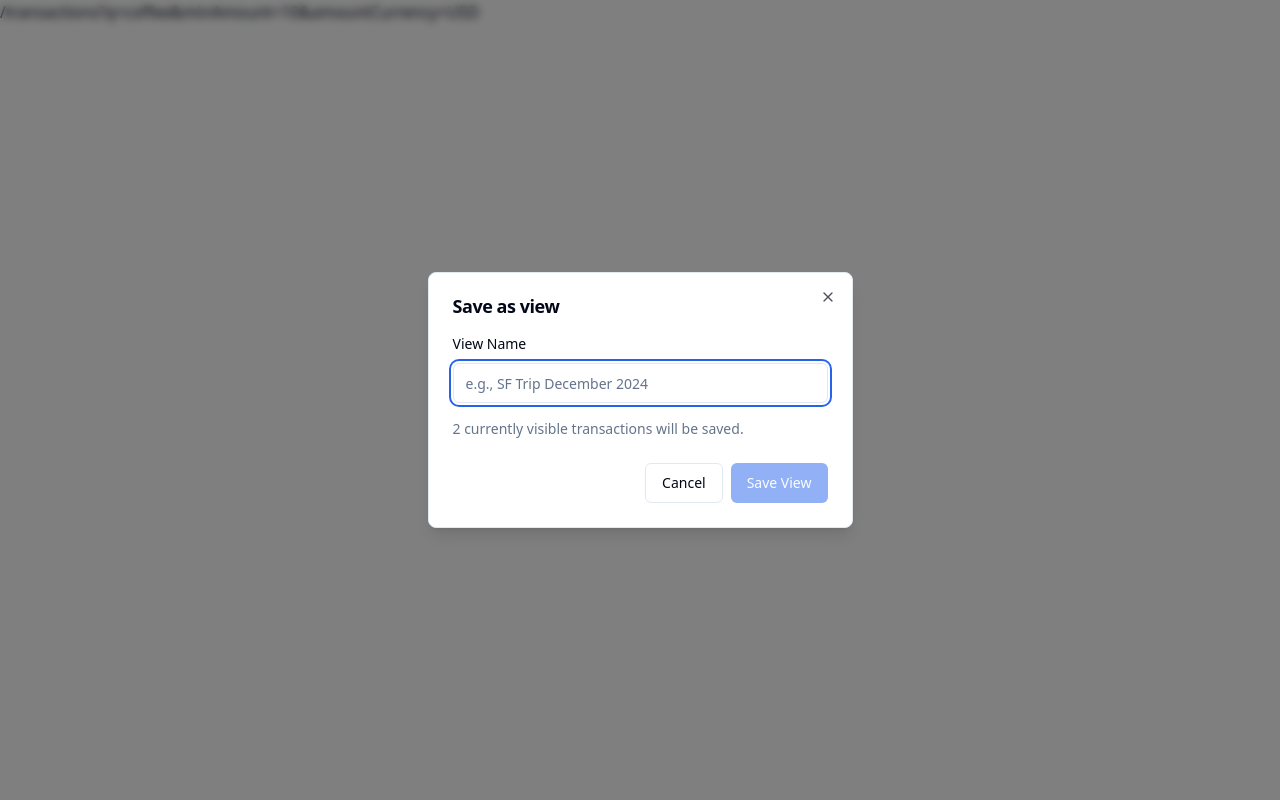
Test: CreateViewModal › explains stale membership while retaining the name
Type "Coffee collection" into the field labelled "View Name" at (640,383), box 452,363 -> 828,403
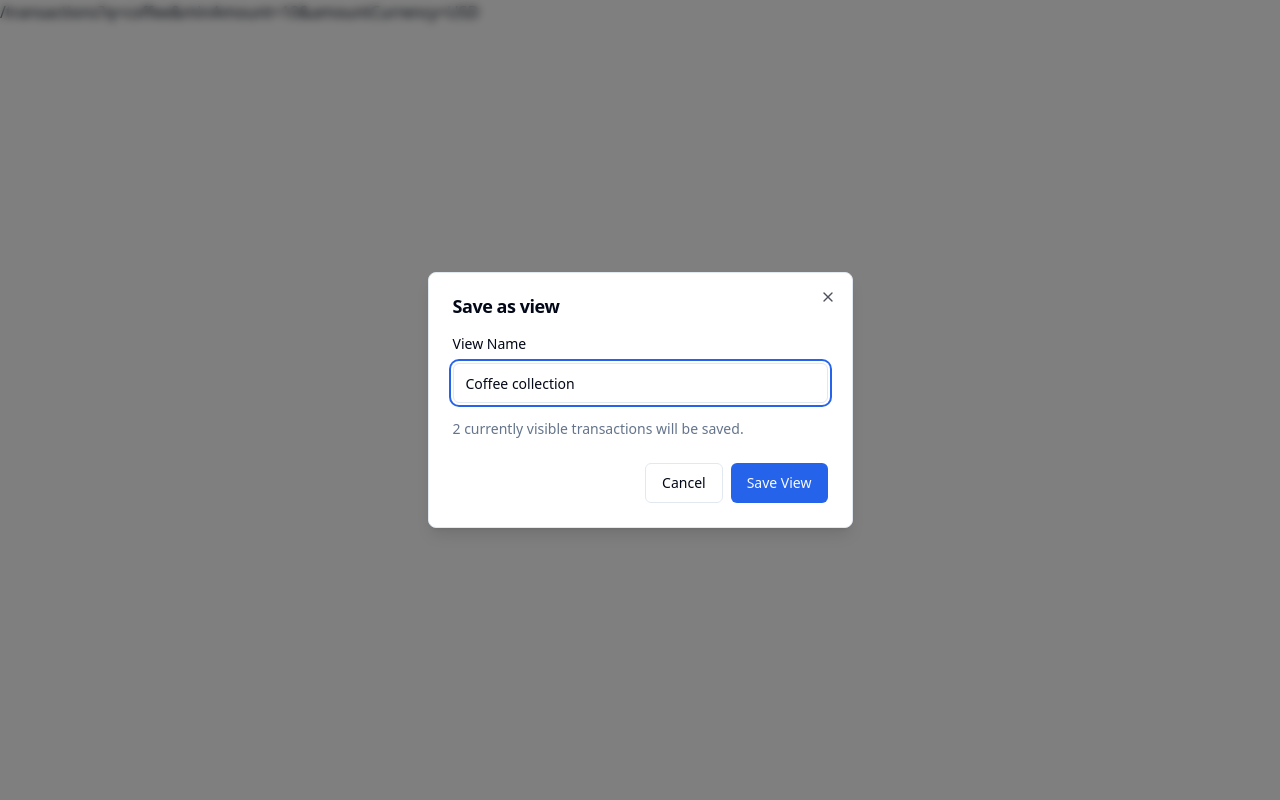
Click the button "Save View" at (779,483), box 731,463 -> 828,503
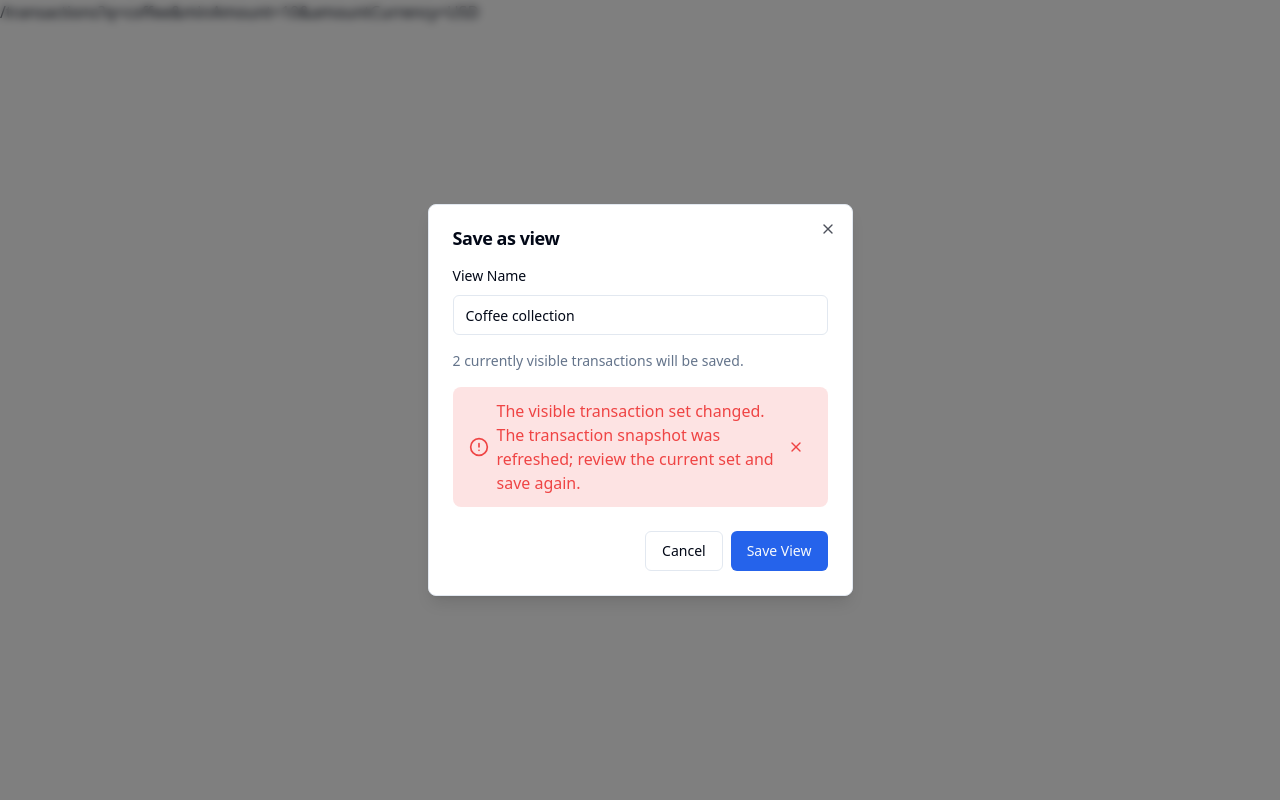
Check: the message shows "visible transaction set changed", box 496,400 -> 774,494
Check: the message shows "snapshot was refreshed", box 496,400 -> 774,494
